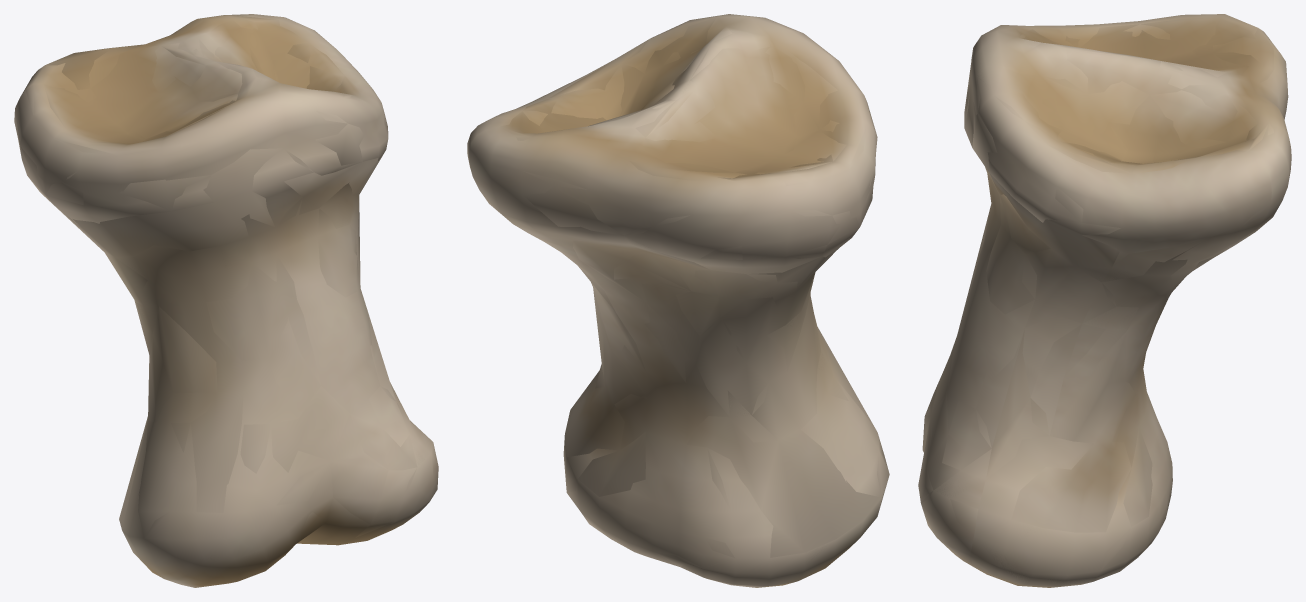
Rendered from BL 1st Phalanx.fbx.
3 renders of one model, left to right at view 1: azimuth 30°, elevation 25°; view 2: azimuth 150°, elevation 25°; view 3: azimuth 270°, elevation 25°, orthographic. The views are drawn at different scales.
Visible parts, largest first — view 1: BL 1st Phalanx, BL 1st Phalanx low; view 2: BL 1st Phalanx, BL 1st Phalanx low; view 3: BL 1st Phalanx, BL 1st Phalanx low.
Boxes of the visible parts, x1,y1,x2,y2 form: BL 1st Phalanx: [14, 14, 438, 587]; BL 1st Phalanx low: [15, 15, 438, 587]; BL 1st Phalanx: [467, 14, 889, 587]; BL 1st Phalanx low: [500, 17, 889, 586]; BL 1st Phalanx: [918, 14, 1291, 587]; BL 1st Phalanx low: [918, 15, 1274, 585].
Size of the model in its own units: 7.86 by 11.16 by 7.4.
Materials: 1 (1 with a texture image).
